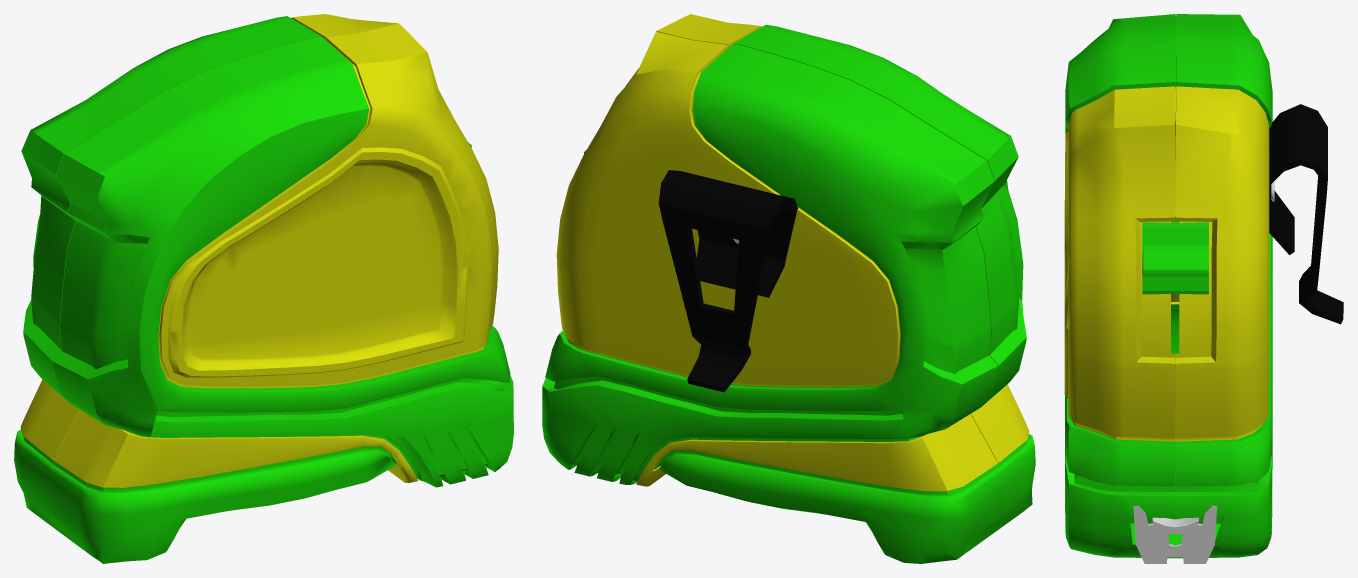
File: Meteran.fbx
The picture shows the model from 3 angles, left to right: view 1: azimuth 30°, elevation 25°; view 2: azimuth 150°, elevation 25°; view 3: azimuth 270°, elevation 25°; orthographic projection. The views are drawn at different scales.
Visible parts, largest first — view 1: Meteran; view 2: Meteran; view 3: Meteran.
Part boxes in pixels (<box>): Meteran: <box>14,14,513,563</box>; Meteran: <box>542,14,1035,563</box>; Meteran: <box>1064,14,1343,563</box>.
Bounding box in the file's own units: 14.14 × 13.73 × 8.24.
